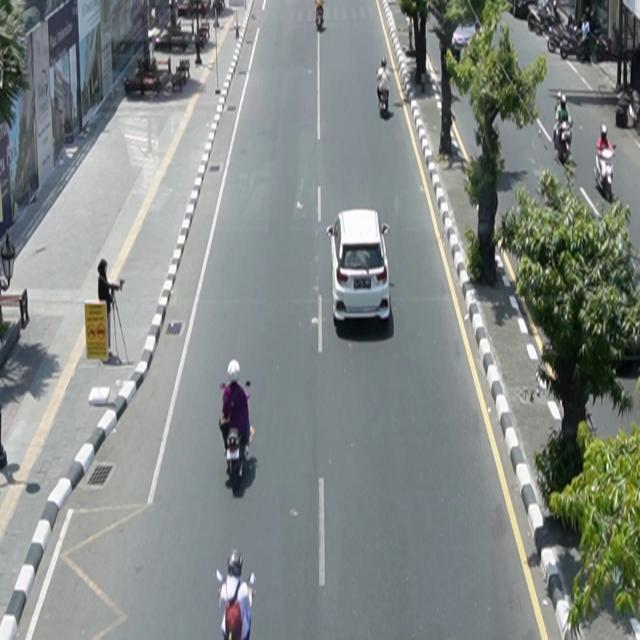car: (327, 208, 392, 327)
